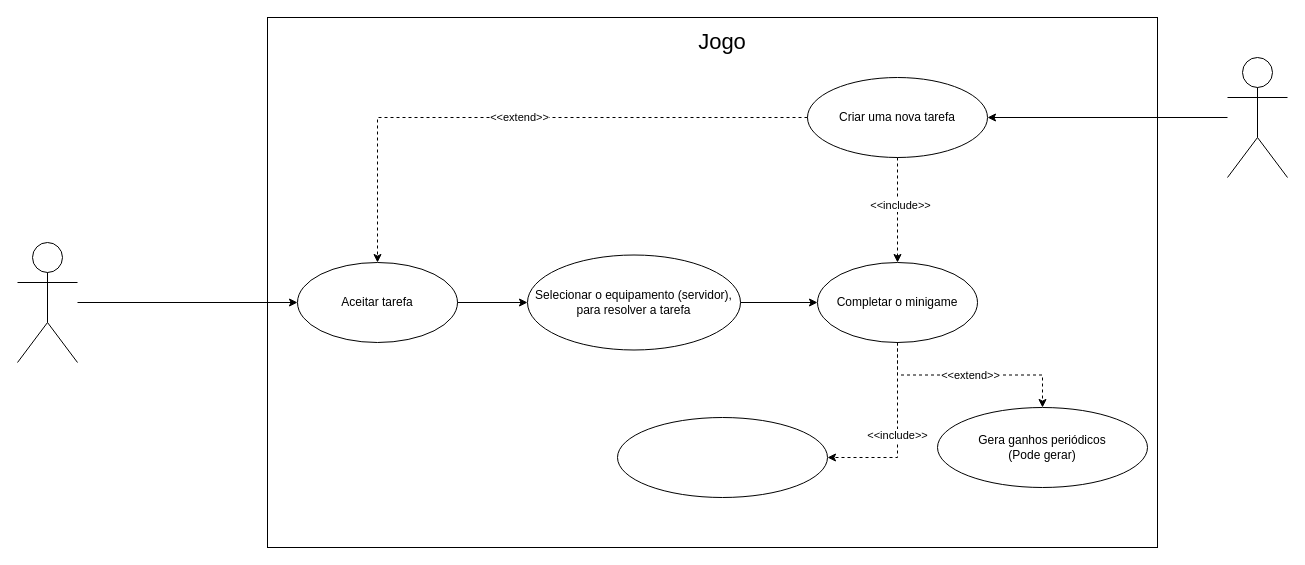
Image size: 1305x565. Some labels were removed from this diagram. The box of each missing label's shape, as (x1, y1, x2, y2) in pixels:
Gerar ganhos recentes: (616, 416, 828, 498)
Jogador: (16, 242, 78, 362)
Sistema: (1226, 56, 1288, 178)
